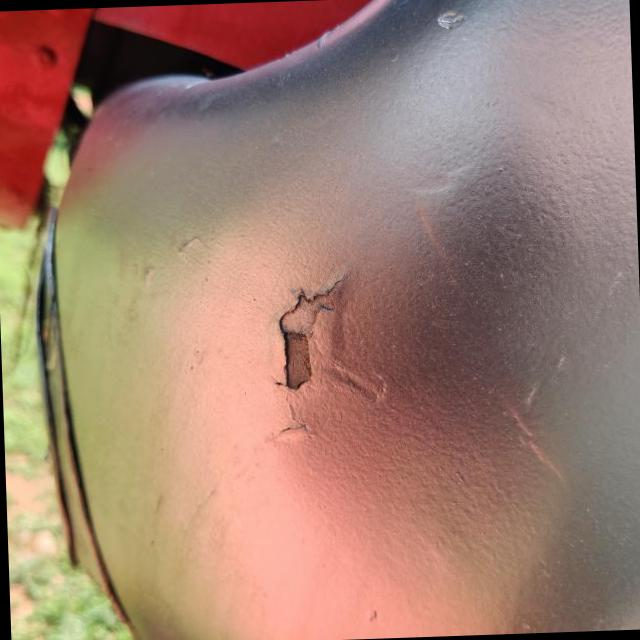Paint-off: (279, 282, 338, 390)
